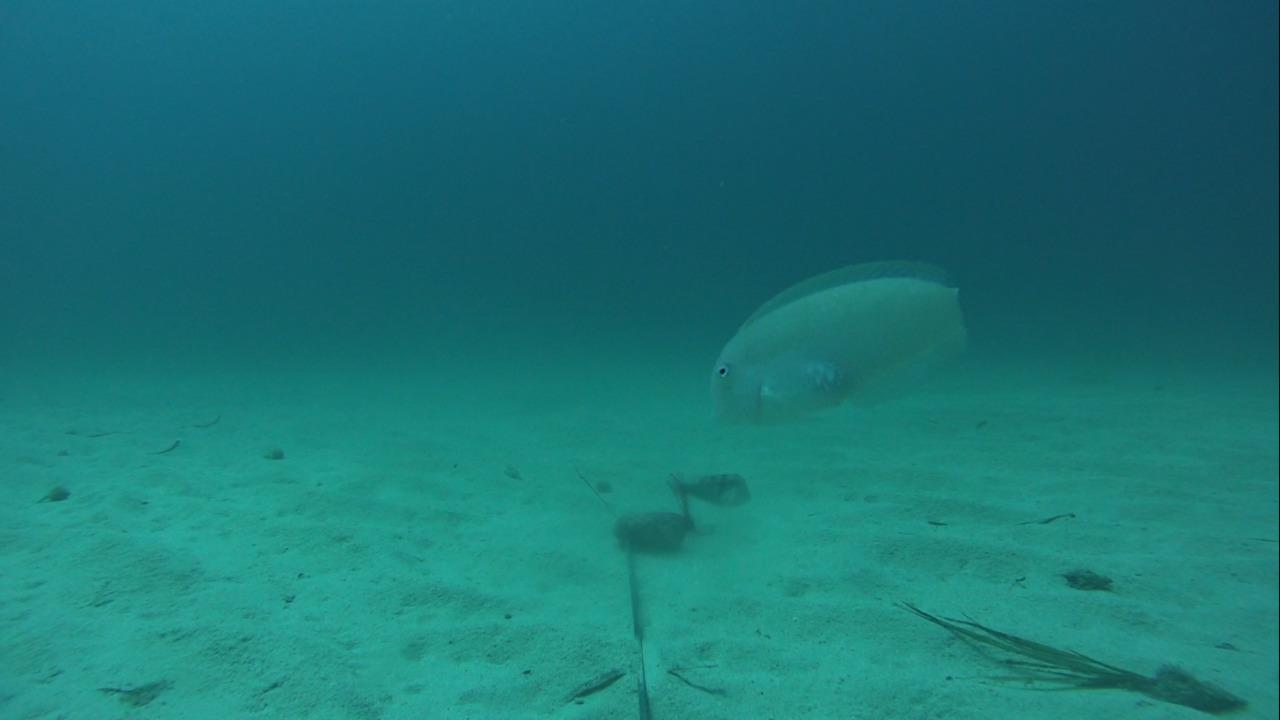raor: (704, 254, 973, 434), (665, 468, 755, 511)
